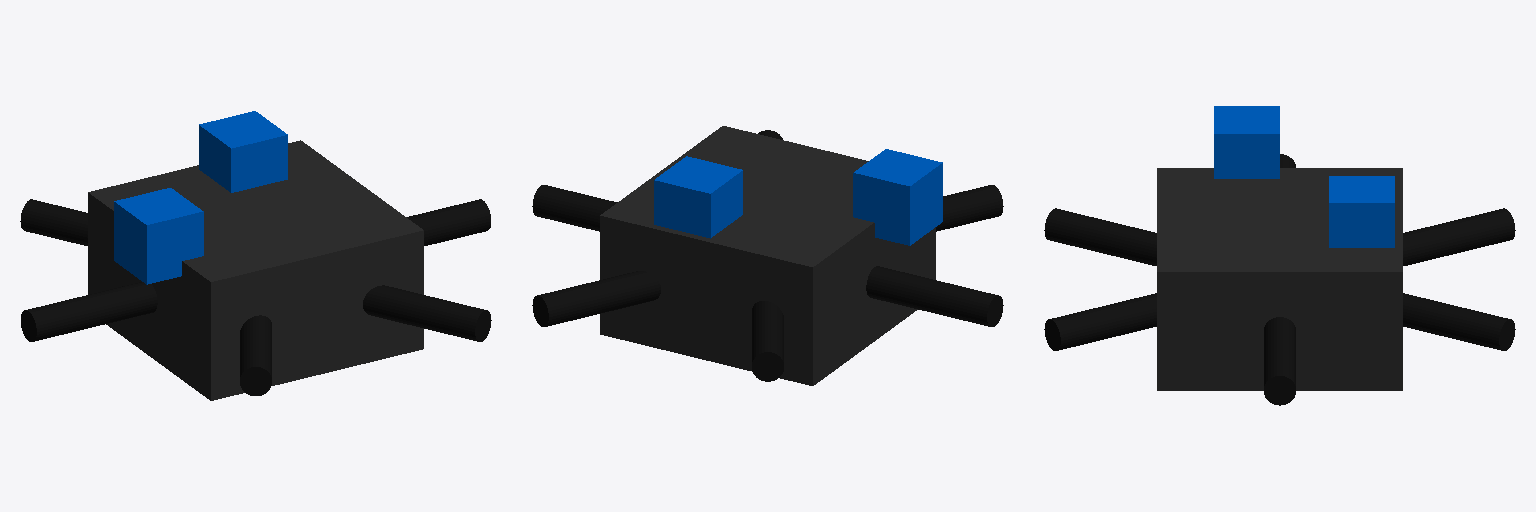
robot.urdf — evolved_confined_space:
<?xml version="1.0"?>
<robot name="evolved_confined_space">
  <!-- Base Link / Central Hub -->
  <link name="base_link">
    <inertial>
      <mass value="0.8000"/>
      <inertia ixx="0.001927" ixy="0" ixz="0" iyy="0.001927" iyz="0" izz="0.003000"/>
    </inertial>
    <visual>
      <geometry>
        <box size="0.15 0.15 0.08"/>
      </geometry>
      <material name="dark_grey"><color rgba="0.2 0.2 0.2 1.0"/></material>
    </visual>
    <collision>
      <geometry>
        <box size="0.15 0.15 0.08"/>
      </geometry>
    </collision>
  </link>
  <!-- Arm 0 -->
  <link name="arm_0">
    <inertial>
      <mass value="0.0225"/>
      <inertia ixx="0.0001" ixy="0" ixz="0" iyy="0.0001" iyz="0" izz="0002"/>
    </inertial>
    <visual>
      <geometry>
        <cylinder length="0.160" radius="0.01"/>
      </geometry>
      <material name="carbon"><color rgba="0.1 0.1 0.1 1.0"/></material>
    </visual>
  </link>
  <joint name="joint_base_arm_0" type="fixed">
    <parent link="base_link"/>
    <child link="arm_0"/>
    <origin xyz="0.0800 0.0000 0.0" rpy="0 1.5708 0.0000"/>
  </joint>
  <!-- Arm 1 -->
  <link name="arm_1">
    <inertial>
      <mass value="0.0225"/>
      <inertia ixx="0.0001" ixy="0" ixz="0" iyy="0.0001" iyz="0" izz="0002"/>
    </inertial>
    <visual>
      <geometry>
        <cylinder length="0.160" radius="0.01"/>
      </geometry>
      <material name="carbon"><color rgba="0.1 0.1 0.1 1.0"/></material>
    </visual>
  </link>
  <joint name="joint_base_arm_1" type="fixed">
    <parent link="base_link"/>
    <child link="arm_1"/>
    <origin xyz="0.0400 0.0693 0.0" rpy="0 1.5708 1.0472"/>
  </joint>
  <!-- Arm 2 -->
  <link name="arm_2">
    <inertial>
      <mass value="0.0225"/>
      <inertia ixx="0.0001" ixy="0" ixz="0" iyy="0.0001" iyz="0" izz="0002"/>
    </inertial>
    <visual>
      <geometry>
        <cylinder length="0.160" radius="0.01"/>
      </geometry>
      <material name="carbon"><color rgba="0.1 0.1 0.1 1.0"/></material>
    </visual>
  </link>
  <joint name="joint_base_arm_2" type="fixed">
    <parent link="base_link"/>
    <child link="arm_2"/>
    <origin xyz="-0.0400 0.0693 0.0" rpy="0 1.5708 2.0944"/>
  </joint>
  <!-- Arm 3 -->
  <link name="arm_3">
    <inertial>
      <mass value="0.0225"/>
      <inertia ixx="0.0001" ixy="0" ixz="0" iyy="0.0001" iyz="0" izz="0002"/>
    </inertial>
    <visual>
      <geometry>
        <cylinder length="0.160" radius="0.01"/>
      </geometry>
      <material name="carbon"><color rgba="0.1 0.1 0.1 1.0"/></material>
    </visual>
  </link>
  <joint name="joint_base_arm_3" type="fixed">
    <parent link="base_link"/>
    <child link="arm_3"/>
    <origin xyz="-0.0800 0.0000 0.0" rpy="0 1.5708 3.1416"/>
  </joint>
  <!-- Arm 4 -->
  <link name="arm_4">
    <inertial>
      <mass value="0.0225"/>
      <inertia ixx="0.0001" ixy="0" ixz="0" iyy="0.0001" iyz="0" izz="0002"/>
    </inertial>
    <visual>
      <geometry>
        <cylinder length="0.160" radius="0.01"/>
      </geometry>
      <material name="carbon"><color rgba="0.1 0.1 0.1 1.0"/></material>
    </visual>
  </link>
  <joint name="joint_base_arm_4" type="fixed">
    <parent link="base_link"/>
    <child link="arm_4"/>
    <origin xyz="-0.0400 -0.0693 0.0" rpy="0 1.5708 4.1888"/>
  </joint>
  <!-- Arm 5 -->
  <link name="arm_5">
    <inertial>
      <mass value="0.0225"/>
      <inertia ixx="0.0001" ixy="0" ixz="0" iyy="0.0001" iyz="0" izz="0002"/>
    </inertial>
    <visual>
      <geometry>
        <cylinder length="0.160" radius="0.01"/>
      </geometry>
      <material name="carbon"><color rgba="0.1 0.1 0.1 1.0"/></material>
    </visual>
  </link>
  <joint name="joint_base_arm_5" type="fixed">
    <parent link="base_link"/>
    <child link="arm_5"/>
    <origin xyz="0.0400 -0.0693 0.0" rpy="0 1.5708 5.2360"/>
  </joint>
  <!-- Sensor: sensor_0_s_lidar_2d -->
  <link name="sensor_0_s_lidar_2d">
    <inertial>
      <mass value="0.1350"/>
      <inertia ixx="0.00005" ixy="0" ixz="0" iyy="0.00005" iyz="0" izz="0.00005"/>
    </inertial>
    <visual>
      <geometry>
        <box size="0.04 0.04 0.04"/>
      </geometry>
      <material name="blue"><color rgba="0.0 0.4 0.8 1.0"/></material>
    </visual>
  </link>
  <joint name="joint_base_sensor_0_s_lidar_2d" type="fixed">
    <parent link="base_link"/>
    <child link="sensor_0_s_lidar_2d"/>
    <origin xyz="-0.0800 -0.0200 0.0500" rpy="0 0 0"/>
  </joint>
  <!-- Sensor: sensor_1_s_depth_cam -->
  <link name="sensor_1_s_depth_cam">
    <inertial>
      <mass value="0.0600"/>
      <inertia ixx="0.00005" ixy="0" ixz="0" iyy="0.00005" iyz="0" izz="0.00005"/>
    </inertial>
    <visual>
      <geometry>
        <box size="0.04 0.04 0.04"/>
      </geometry>
      <material name="blue"><color rgba="0.0 0.4 0.8 1.0"/></material>
    </visual>
  </link>
  <joint name="joint_base_sensor_1_s_depth_cam" type="fixed">
    <parent link="base_link"/>
    <child link="sensor_1_s_depth_cam"/>
    <origin xyz="0.0200 0.0500 0.0500" rpy="0 0 0"/>
  </joint>
</robot>

--- What the picture shows (computed from the rendered views, not written in the file) ---
The picture shows the robot from 3 angles, left to right: view 1: azimuth 30°, elevation 25°; view 2: azimuth 150°, elevation 25°; view 3: azimuth 270°, elevation 25°; orthographic projection.
Model evolved_confined_space with 9 links and 8 joints (8 fixed), rooted at base_link, posed every joint at zero.
Visible links, largest first — view 1: base_link, sensor_0_s_lidar_2d, sensor_1_s_depth_cam, arm_3, arm_5, arm_4, arm_0, arm_2; view 2: base_link, sensor_0_s_lidar_2d, sensor_1_s_depth_cam, arm_3, arm_1, arm_2, arm_0, arm_4; view 3: base_link, sensor_0_s_lidar_2d, sensor_1_s_depth_cam, arm_4, arm_2, arm_1, arm_5, arm_0.
Link boxes in pixels (bbox=[...]): base_link: bbox=[88, 140, 423, 400]; sensor_0_s_lidar_2d: bbox=[114, 188, 203, 284]; sensor_1_s_depth_cam: bbox=[199, 111, 287, 192]; arm_3: bbox=[21, 282, 157, 341]; arm_5: bbox=[363, 285, 491, 341]; arm_4: bbox=[240, 315, 271, 395]; arm_0: bbox=[407, 199, 490, 245]; arm_2: bbox=[20, 199, 87, 245]; base_link: bbox=[600, 126, 935, 385]; sensor_0_s_lidar_2d: bbox=[853, 149, 942, 245]; sensor_1_s_depth_cam: bbox=[654, 156, 742, 238]; arm_3: bbox=[866, 266, 1003, 326]; arm_1: bbox=[532, 271, 660, 326]; arm_2: bbox=[752, 301, 783, 381]; arm_0: bbox=[532, 185, 617, 231]; arm_4: bbox=[936, 185, 1003, 231]; base_link: bbox=[1157, 168, 1402, 390]; sensor_0_s_lidar_2d: bbox=[1214, 106, 1279, 178]; sensor_1_s_depth_cam: bbox=[1329, 176, 1394, 247]; arm_4: bbox=[1044, 208, 1156, 265]; arm_2: bbox=[1403, 208, 1515, 265]; arm_1: bbox=[1403, 293, 1515, 350]; arm_5: bbox=[1044, 293, 1156, 350]; arm_0: bbox=[1264, 317, 1295, 405].
Size in the robot's own frame: 0.32 by 0.2872 by 0.11 metres.
Geometry: primitives only (box / cylinder / sphere), no mesh files.
